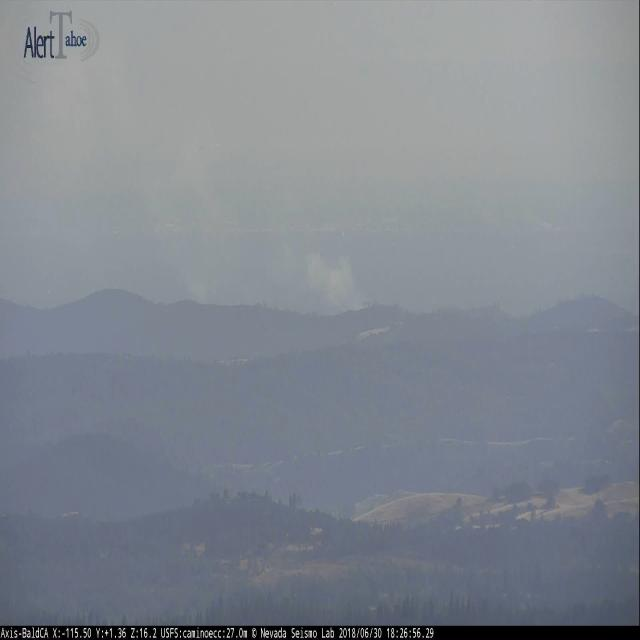smoke: (162, 158, 234, 298), (272, 230, 375, 307), (536, 213, 561, 230)
